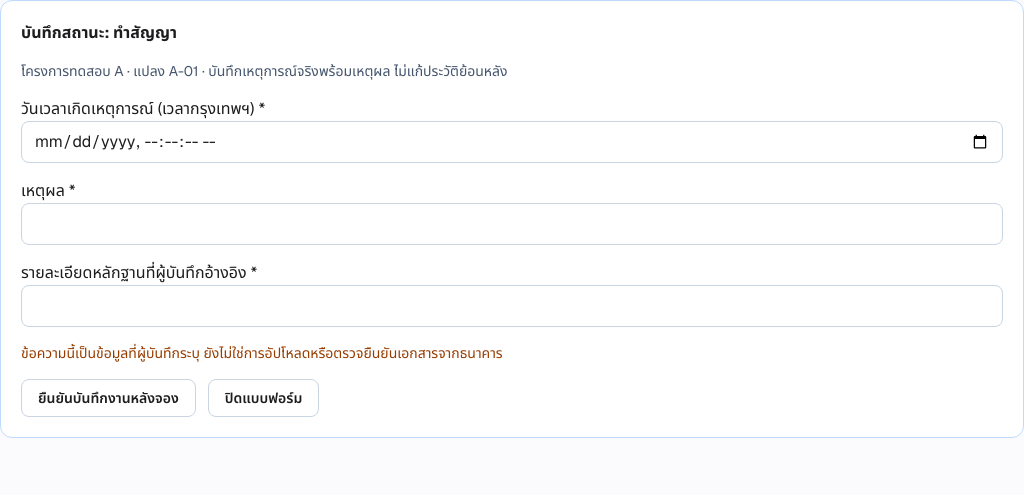
post-booking form › requires เหตุผล *
This screenshot has width=1024, height=495.
Type "2026-09-21T10:00" into the field labelled "วันเวลาเกิดเหตุการณ์ (เวลากรุงเทพฯ) *" at (512, 142), box [21, 121, 1003, 163]
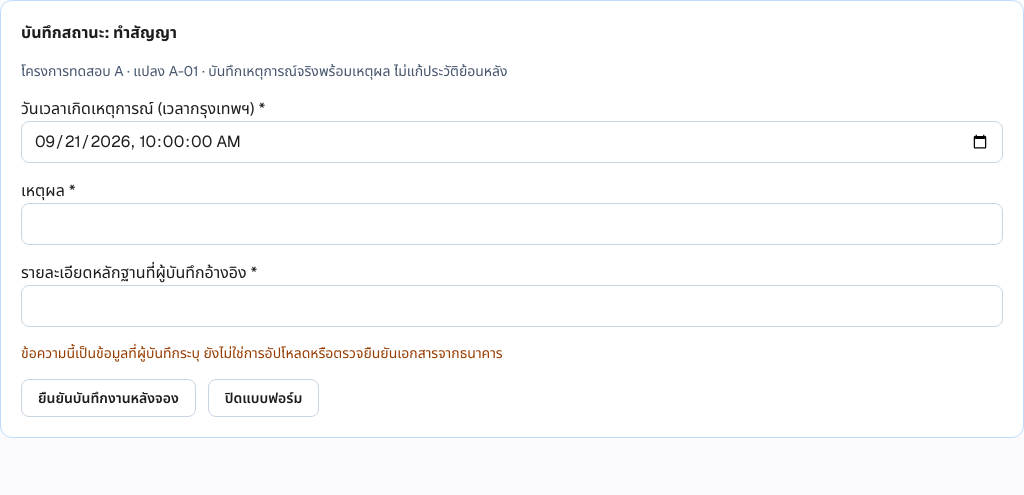
Type "ลูกค้ายืนยันแล้ว" into the field labelled "เหตุผล *" at (512, 224), box [21, 203, 1003, 245]
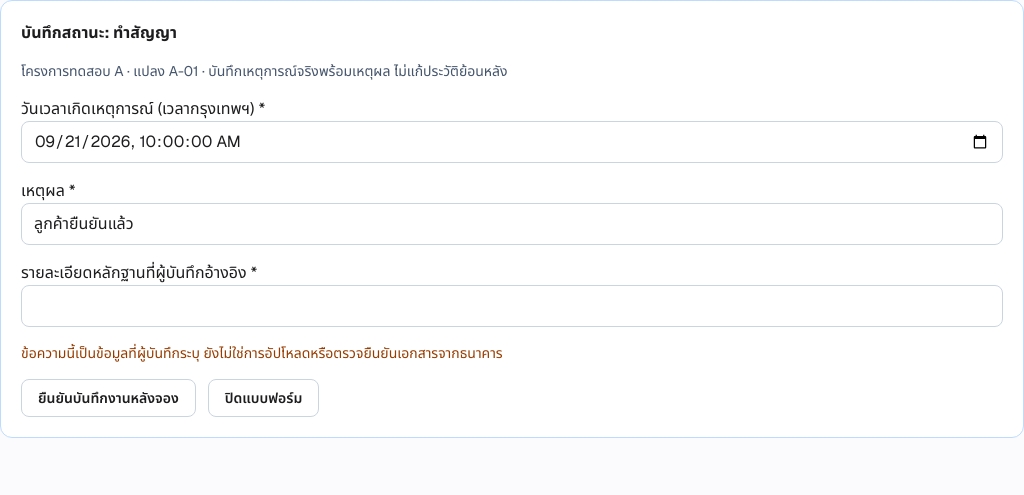
Type "เอกสารเลขที่ทดสอบ 01" into the field labelled "รายละเอียดหลักฐานที่ผู้บันทึกอ้างอิง *" at (512, 306), box [21, 285, 1003, 327]
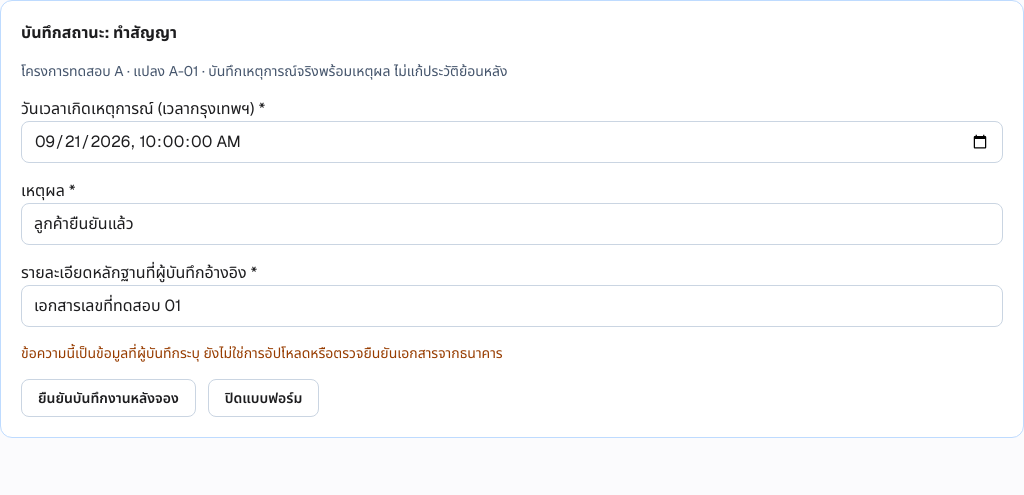
Clear the field labelled "เหตุผล *" at (512, 224), box [21, 203, 1003, 245]
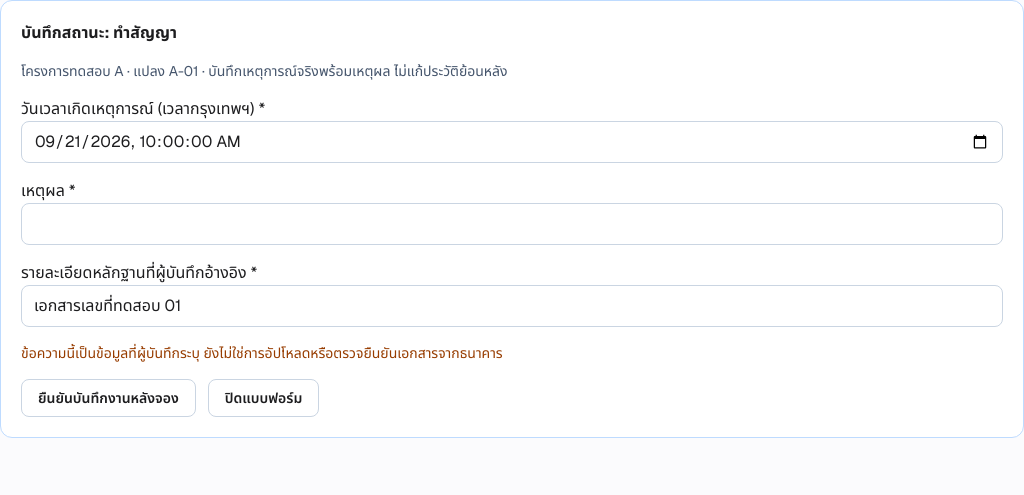
Submit the form named "บันทึกงานหลังจอง"
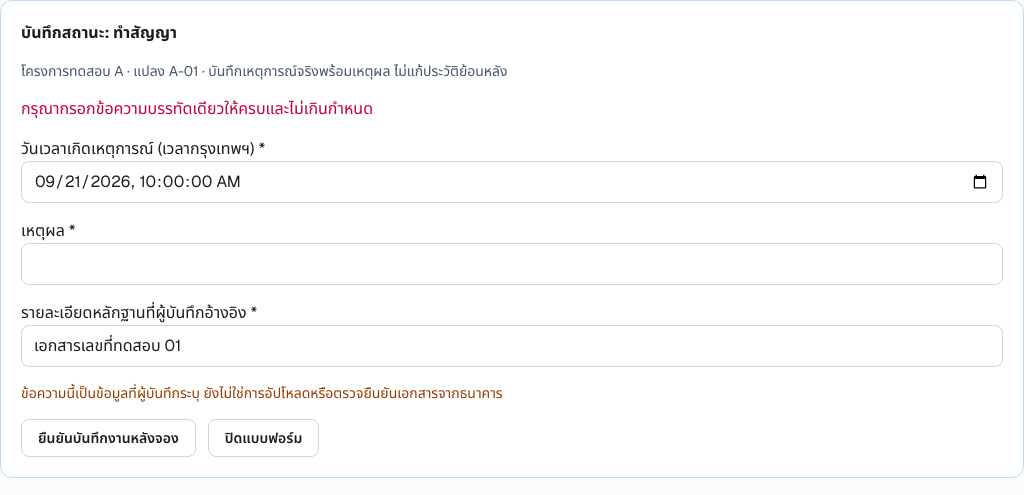
Now the message "กรุณากรอกข้อความบรรทัดเดียวให้ครบและไม่เกินกำหนด" is shown, box [21, 98, 373, 119]
